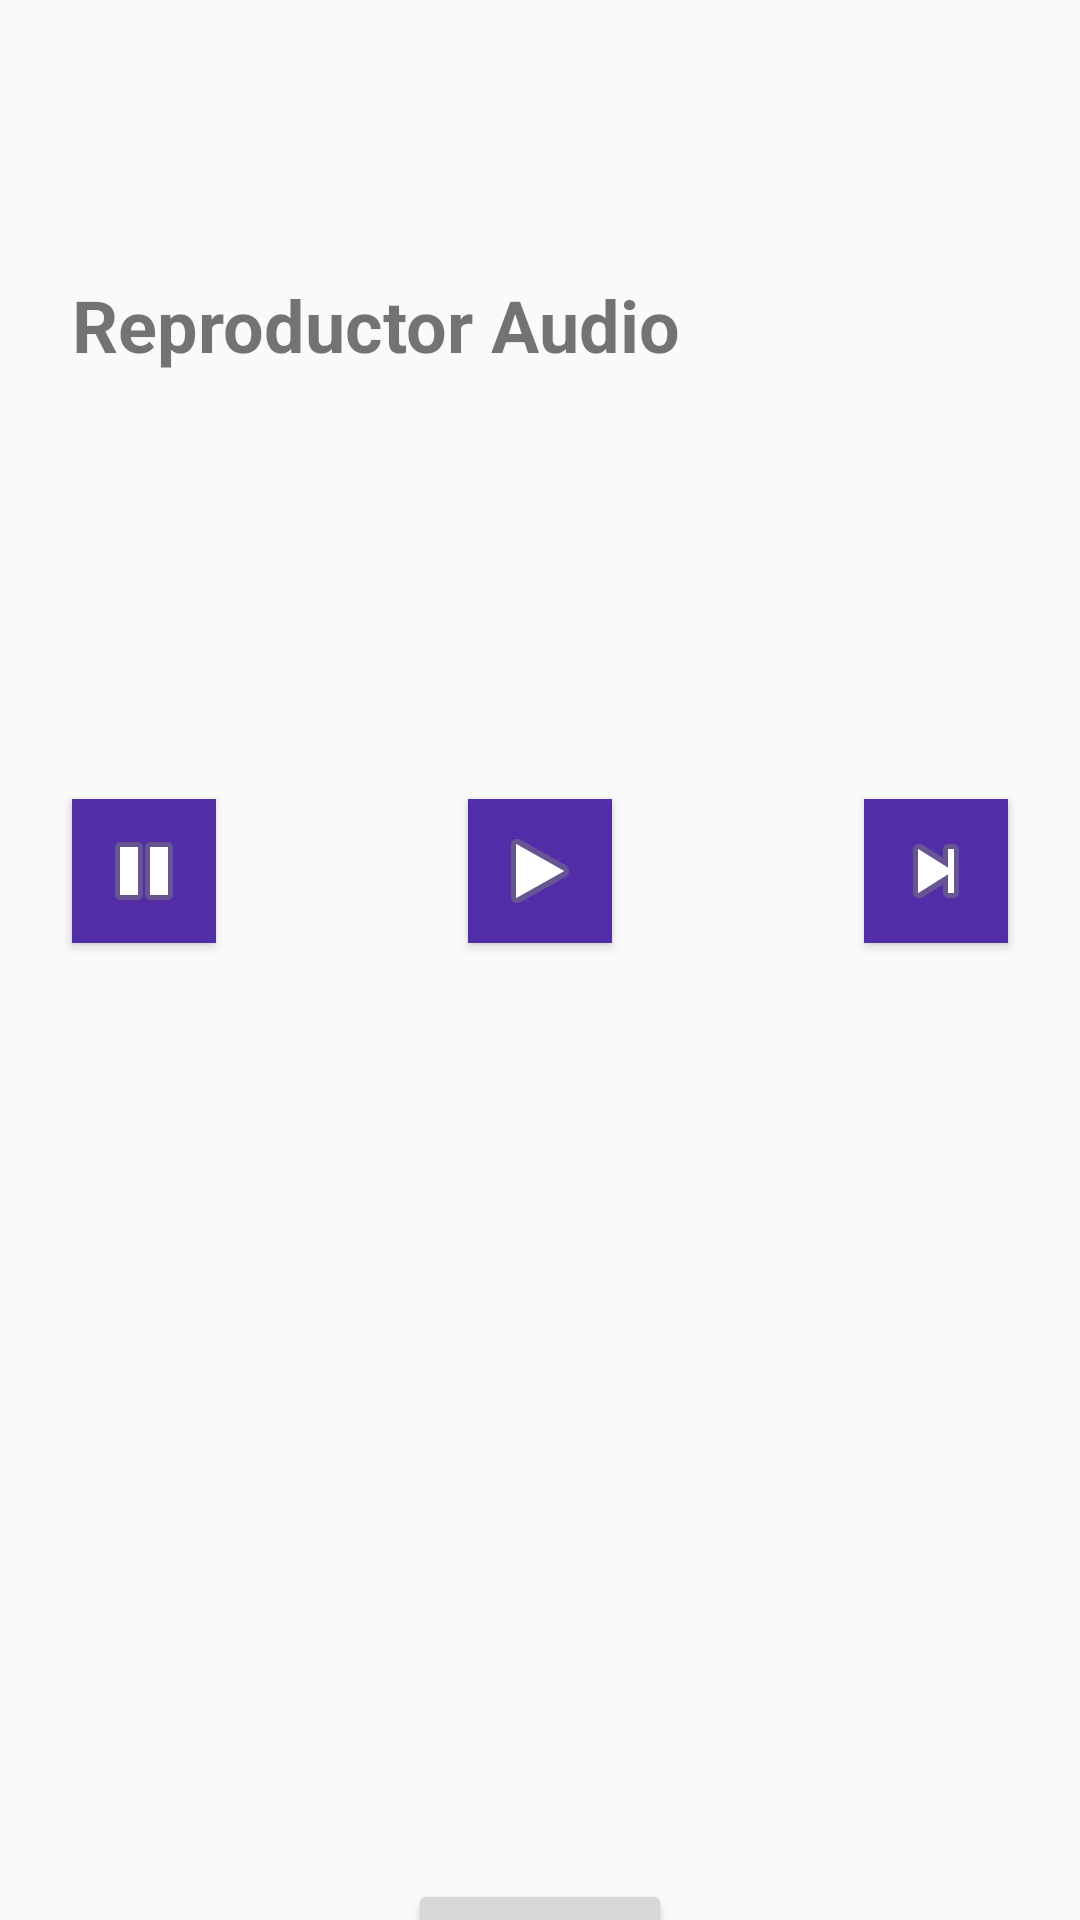

Icons on this 1080×1920 Android screen, each with its box as {"x1": x1, "y1": y1, "x2": x2, "y2": y2}:
next: {"x1": 864, "y1": 799, "x2": 1008, "y2": 943}
pause: {"x1": 72, "y1": 799, "x2": 216, "y2": 943}
play: {"x1": 468, "y1": 799, "x2": 612, "y2": 943}
